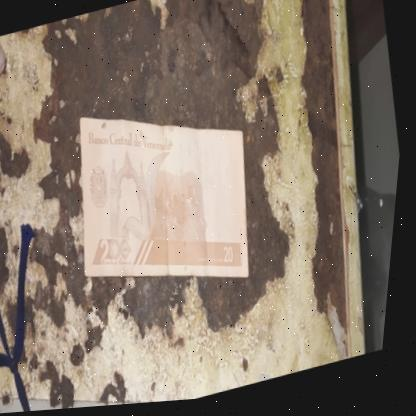vef_back: (55, 77, 276, 323)
